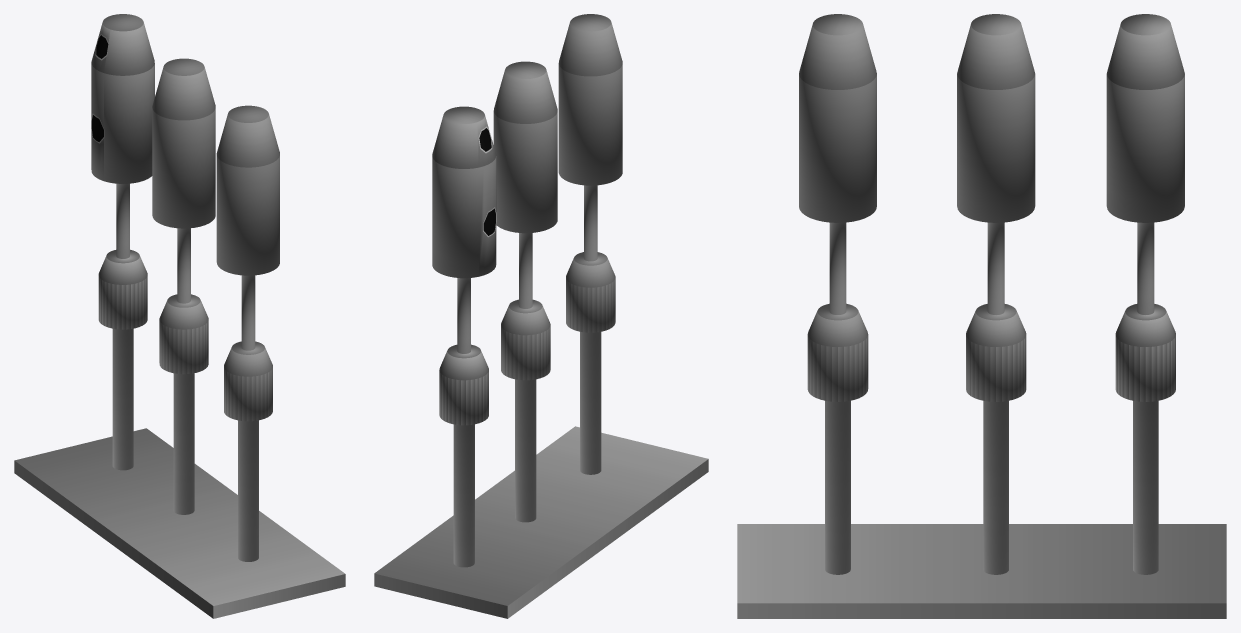
The model's file is Máquina nueva.fbx.
3 renders of one model, left to right at view 1: azimuth 30°, elevation 25°; view 2: azimuth 150°, elevation 25°; view 3: azimuth 270°, elevation 25°, orthographic. The views are drawn at different scales.
Parts seen in each view (by area): view 1: Cube, Cylinder.001, Cylinder, Cylinder.002; view 2: Cube, Cylinder.002, Cylinder, Cylinder.001; view 3: Cube, Cylinder.002, Cylinder.001, Cylinder.
Part boxes in pixels (left/top/right/bottom): Cube: left=14, top=428, right=345, bottom=618; Cylinder.001: left=152, top=58, right=215, bottom=514; Cylinder: left=216, top=105, right=279, bottom=561; Cylinder.002: left=91, top=14, right=154, bottom=470; Cube: left=374, top=426, right=708, bottom=618; Cylinder.002: left=432, top=106, right=496, bottom=567; Cylinder: left=558, top=14, right=622, bottom=474; Cylinder.001: left=493, top=61, right=557, bottom=522; Cube: left=737, top=524, right=1226, bottom=618; Cylinder.002: left=1106, top=14, right=1184, bottom=574; Cylinder.001: left=957, top=14, right=1035, bottom=574; Cylinder: left=799, top=14, right=876, bottom=574.
Bounding box in the file's own units: 200 × 660 × 522.
